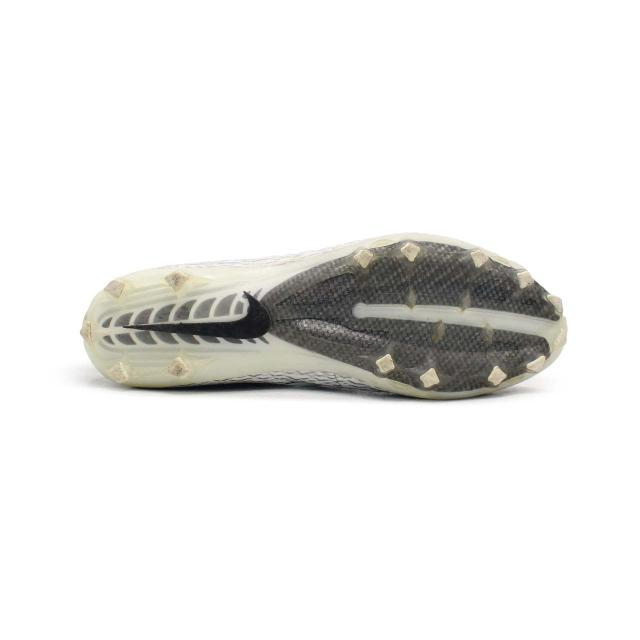outersole: (83, 236, 571, 399)
